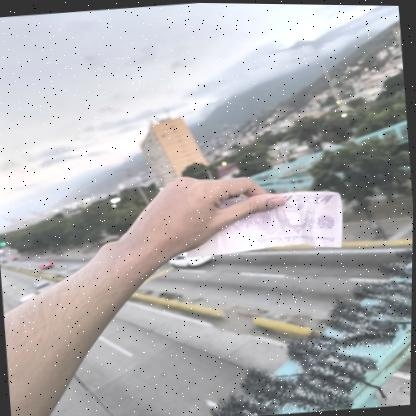one_hundred-back-vef: (182, 185, 347, 260)
